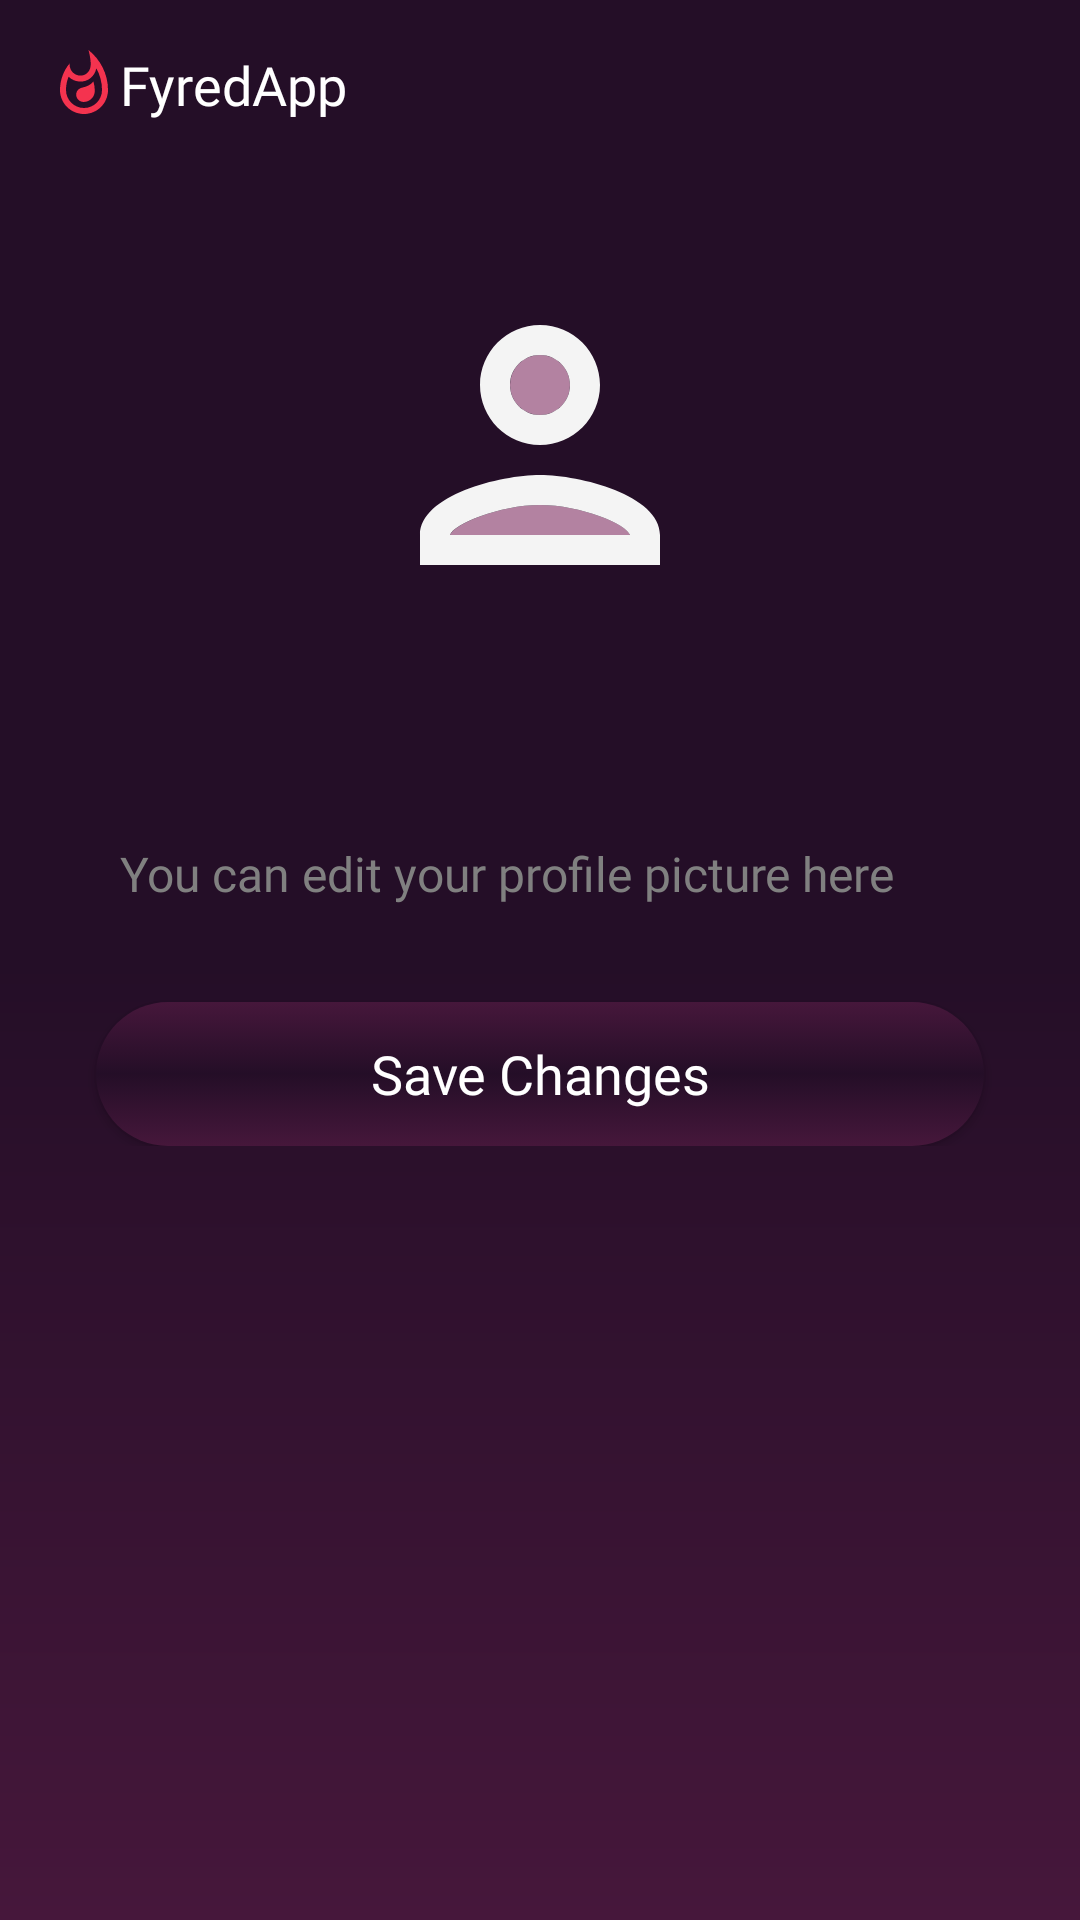

Icons on this 1080w x 1920h Android screen, each with the point to tap as point (x, y):
Profile picture: point (540, 445)
